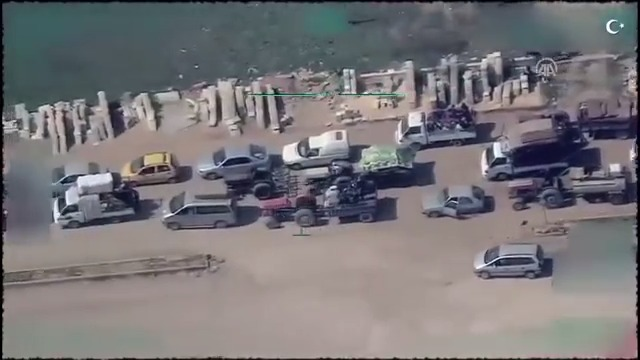arac: (253, 173, 389, 229), (505, 162, 635, 214), (44, 167, 146, 231), (477, 122, 578, 179), (391, 97, 482, 148), (470, 237, 563, 282), (159, 187, 245, 233), (282, 122, 356, 174), (194, 137, 273, 180), (417, 173, 488, 219), (121, 144, 185, 182)
